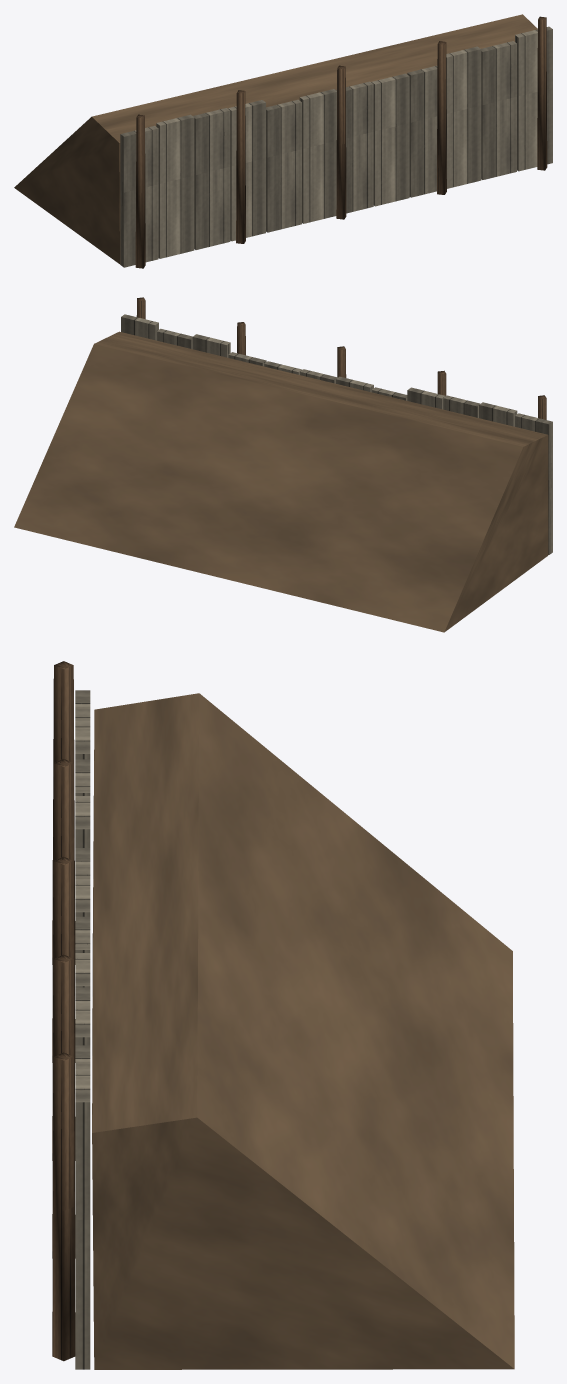
Rendered from Earthwork_Plank_1_LOD1.gltf.
3 views of the same model, one above another, from view 1: azimuth 30°, elevation 25°; view 2: azimuth 150°, elevation 25°; view 3: azimuth 270°, elevation 25° (orthographic). The views are drawn at different scales.
Visible parts, largest first — view 1: Earthwork_Plank_1_LOD1; view 2: Earthwork_Plank_1_LOD1; view 3: Earthwork_Plank_1_LOD1.
Part boxes in pixels (x1,y1,x2,y2): Earthwork_Plank_1_LOD1: (14,14,552,268); Earthwork_Plank_1_LOD1: (14,297,552,632); Earthwork_Plank_1_LOD1: (52,661,514,1369).
Bounding box in the file's own units: 6.02 × 2 × 2.8.
Materials: 3 (3 with a texture image).
